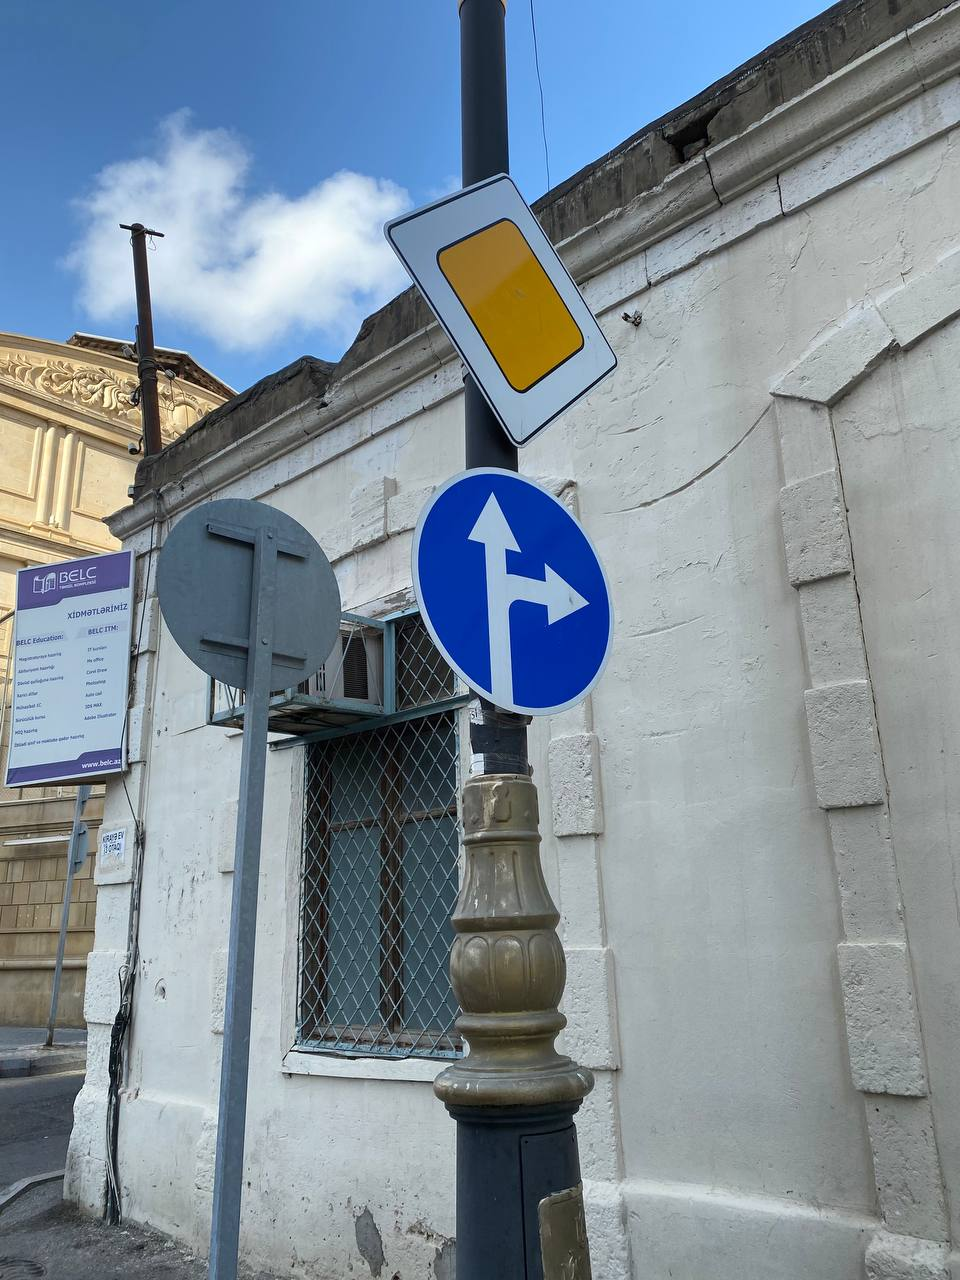Main Road: (385, 172, 618, 447)
Straight or Right: (410, 467, 616, 716)
